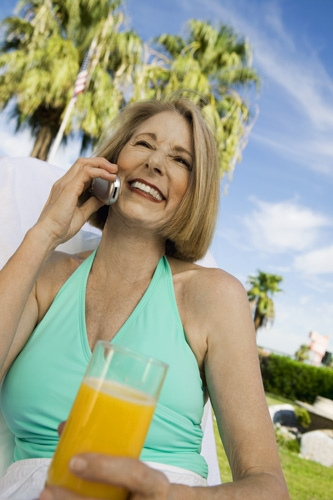phone: (75, 149, 124, 208)
talk: (51, 129, 187, 240)
